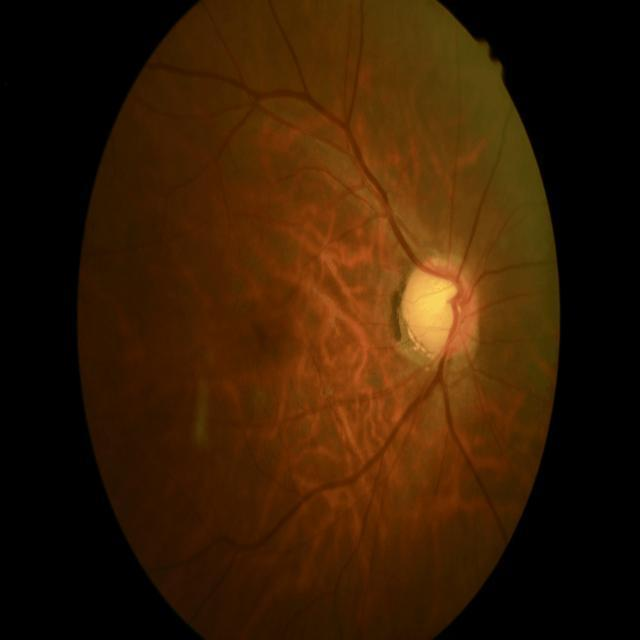cup: (414, 270, 463, 352)
disk: (401, 252, 478, 364)
